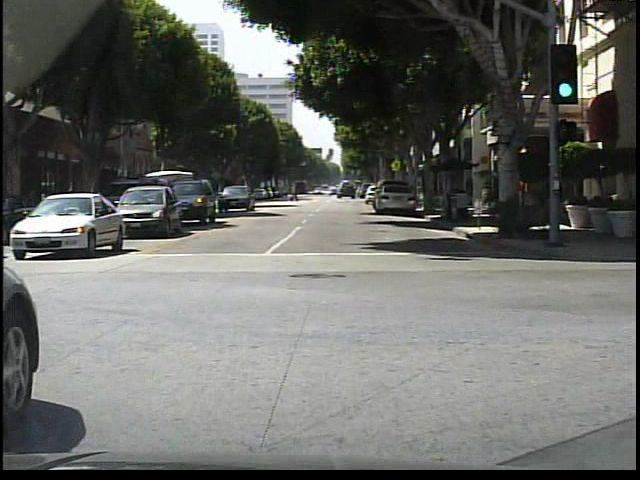person: (548, 161, 567, 240), (516, 170, 530, 225), (442, 172, 458, 220), (290, 183, 299, 201)
